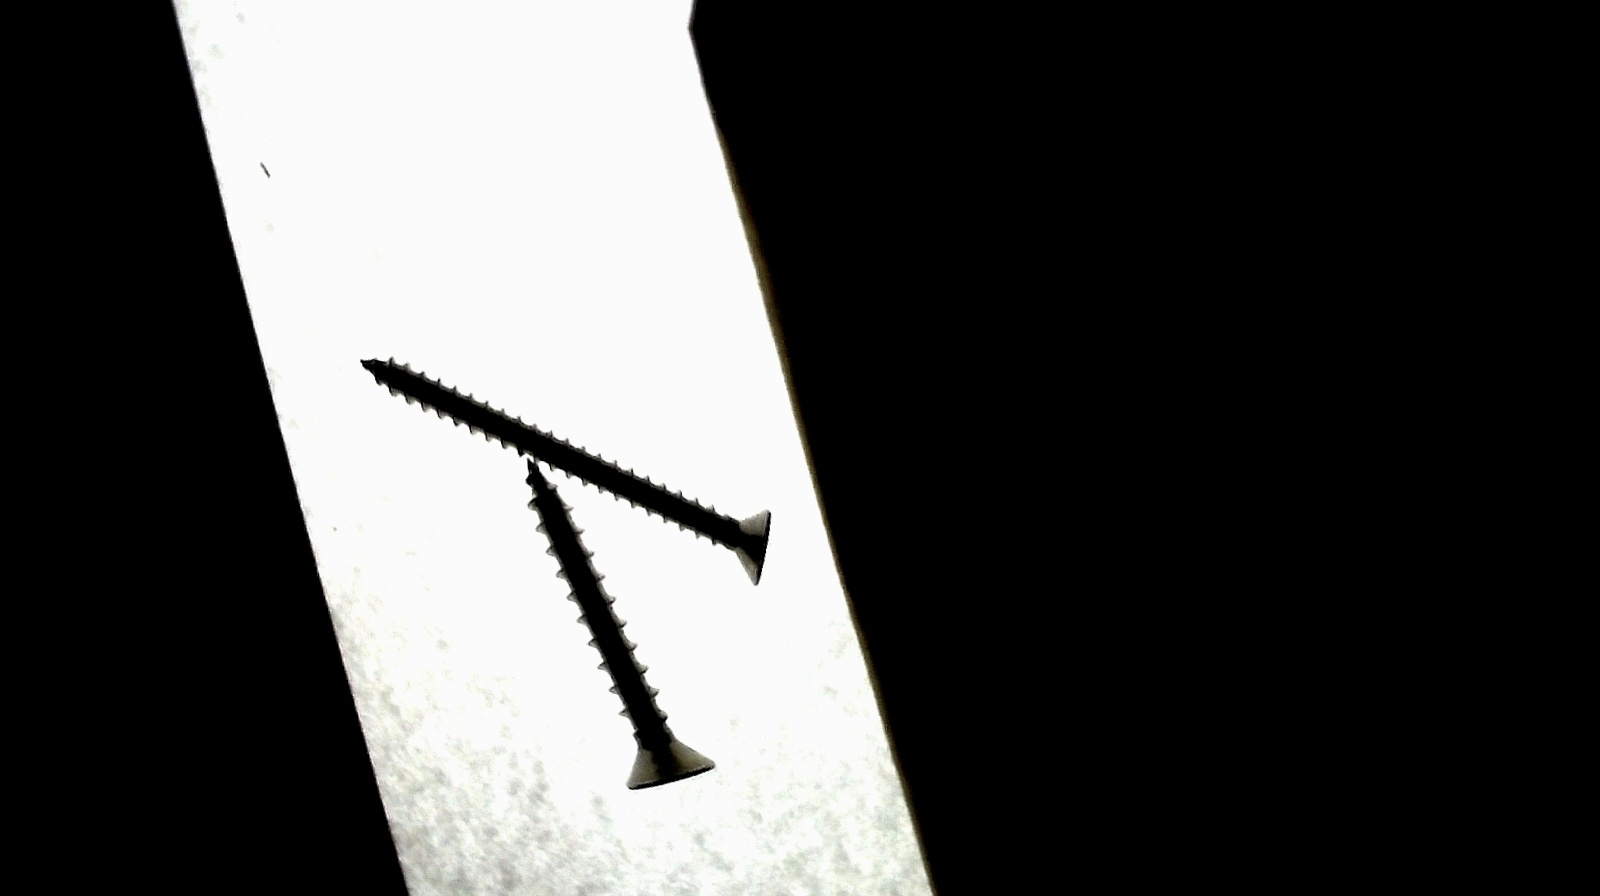S001: (518, 454, 727, 815)
S002: (357, 346, 778, 595)
